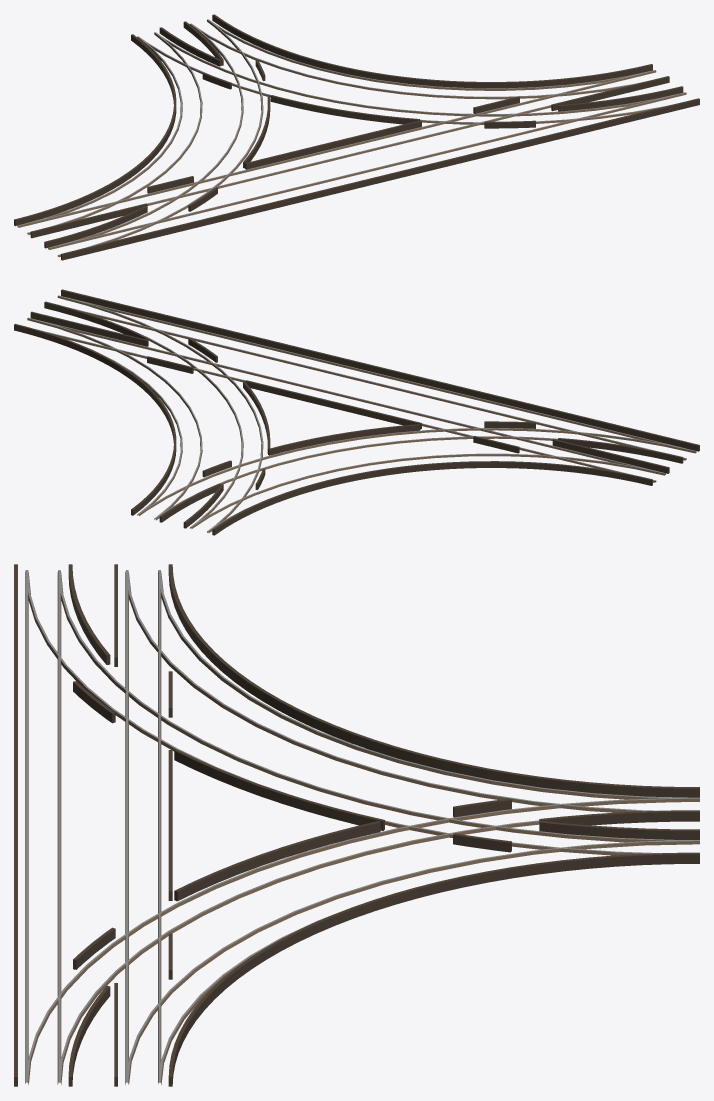
The model's file is SW_ENV_TrackJunction_EL_02_Collision.fbx.
3 renders of one model, top to bottom at view 1: azimuth 30°, elevation 25°; view 2: azimuth 150°, elevation 25°; view 3: azimuth 270°, elevation 25°, orthographic. The views are drawn at different scales.
Parts seen in each view (by area): view 1: SW_ENV_TrackJunction_EL_02_Collision; view 2: SW_ENV_TrackJunction_EL_02_Collision; view 3: SW_ENV_TrackJunction_EL_02_Collision.
Part boxes in pixels (x1=…): SW_ENV_TrackJunction_EL_02_Collision: x1=14, y1=14, x2=699, y2=260; SW_ENV_TrackJunction_EL_02_Collision: x1=14, y1=289, x2=699, y2=535; SW_ENV_TrackJunction_EL_02_Collision: x1=14, y1=564, x2=699, y2=1086.
Bounding box in the file's own units: 5450 × 47.71 × 3081.
